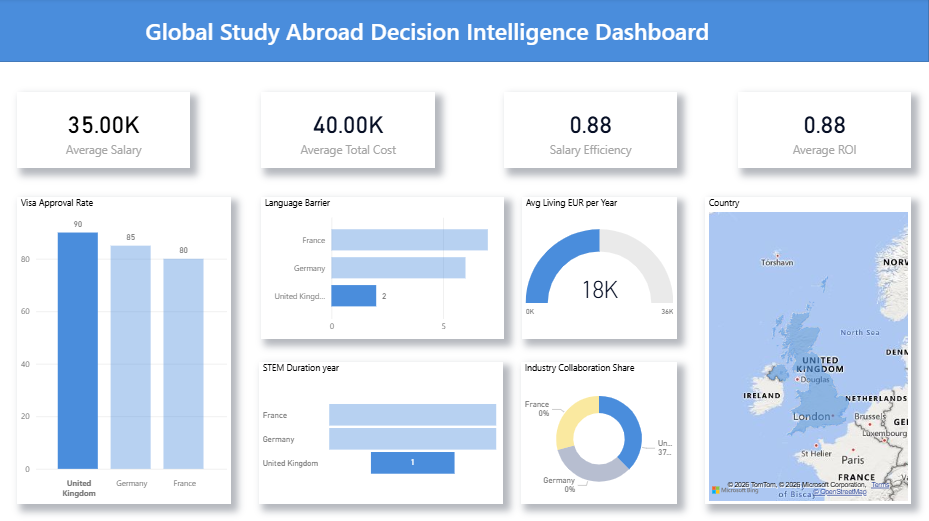

This screenshot's page, from the dashboard's own definition file:
{"tool":"powerbi","page":{"name":"Page 1","canvas":[1280,720],"ordinal":0},"visuals":[{"type":"clusteredColumnChart","title":"Visa Approval Rate","fields":{"Category":["STEM_Masters_Raw_Data.Country"],"Y":["Sum(STEM_Masters_Raw_Data.Visa_Approval_Rate_Percent)"]},"box":[25,273.3,293.9,423.2],"z":0},{"type":"card","fields":{"Values":["STEM_Masters_Raw_Data.Average ROI"]},"box":[1016.7,130,238.3,105],"z":1000},{"type":"card","fields":{"Values":["STEM_Masters_Raw_Data.Average Salary"]},"box":[25,130,238.3,105],"z":2000},{"type":"card","fields":{"Values":["STEM_Masters_Raw_Data.Average Total Cost"]},"box":[360,130,240,105],"z":3000},{"type":"card","fields":{"Values":["STEM_Masters_Raw_Data.Salary Efficiency"]},"box":[695,130,238.3,105],"z":4000},{"type":"clusteredBarChart","title":"Language Barrier","fields":{"Category":["STEM_Masters_Raw_Data.Country"],"Y":["Sum(STEM_Masters_Raw_Data.Language_Barrier_1_to_10)"]},"box":[360,273.3,335,195.4],"z":5000},{"type":"filledMap","fields":{"Category":["STEM_Masters_Raw_Data.Country"]},"box":[971.7,273.9,283.5,422.5],"z":6000},{"type":"funnel","title":"STEM Duration year","fields":{"Category":["STEM_Masters_Raw_Data.Country"],"Y":["Sum(STEM_Masters_Raw_Data.Duration_Years)"]},"box":[358.5,501.1,336.5,195.4],"z":7000},{"type":"donutChart","title":"Industry Collaboration Share","fields":{"Y":["Sum(STEM_Masters_Raw_Data.Industry_Collaboration_1_to_10)"],"Category":["STEM_Masters_Raw_Data.Country"]},"box":[718.5,501,214.7,195.4],"z":8000},{"type":"gauge","title":"Avg Living EUR per Year","fields":{"Y":["Sum(STEM_Masters_Raw_Data.Avg_Living_EUR_per_Year)"]},"box":[719.8,273.9,213.3,195.4],"z":9000},{"type":"shape","box":[0,0,1279.8,88.2],"z":10000},{"type":"textbox","box":[99.9,17.6,987.4,54.4],"z":11000}]}

Visuals, with their boxes in screenshot pixels (x1, y1, x2, y2), scaled from the page's 1280x720 canvas onto the 929x521 screenshot:
"Visa Approval Rate" clusteredColumnChart: box=[18, 198, 231, 504]
card - STEM_Masters_Raw_Data.Average ROI: box=[738, 94, 911, 170]
card - STEM_Masters_Raw_Data.Average Salary: box=[18, 94, 191, 170]
card - STEM_Masters_Raw_Data.Average Total Cost: box=[261, 94, 435, 170]
card - STEM_Masters_Raw_Data.Salary Efficiency: box=[504, 94, 677, 170]
"Language Barrier" clusteredBarChart: box=[261, 198, 504, 339]
filledMap - STEM_Masters_Raw_Data.Country: box=[705, 198, 911, 504]
"STEM Duration year" funnel: box=[260, 363, 504, 504]
"Industry Collaboration Share" donutChart: box=[521, 363, 677, 504]
"Avg Living EUR per Year" gauge: box=[522, 198, 677, 340]
shape: box=[0, 0, 928, 64]
textbox: box=[73, 13, 789, 52]
